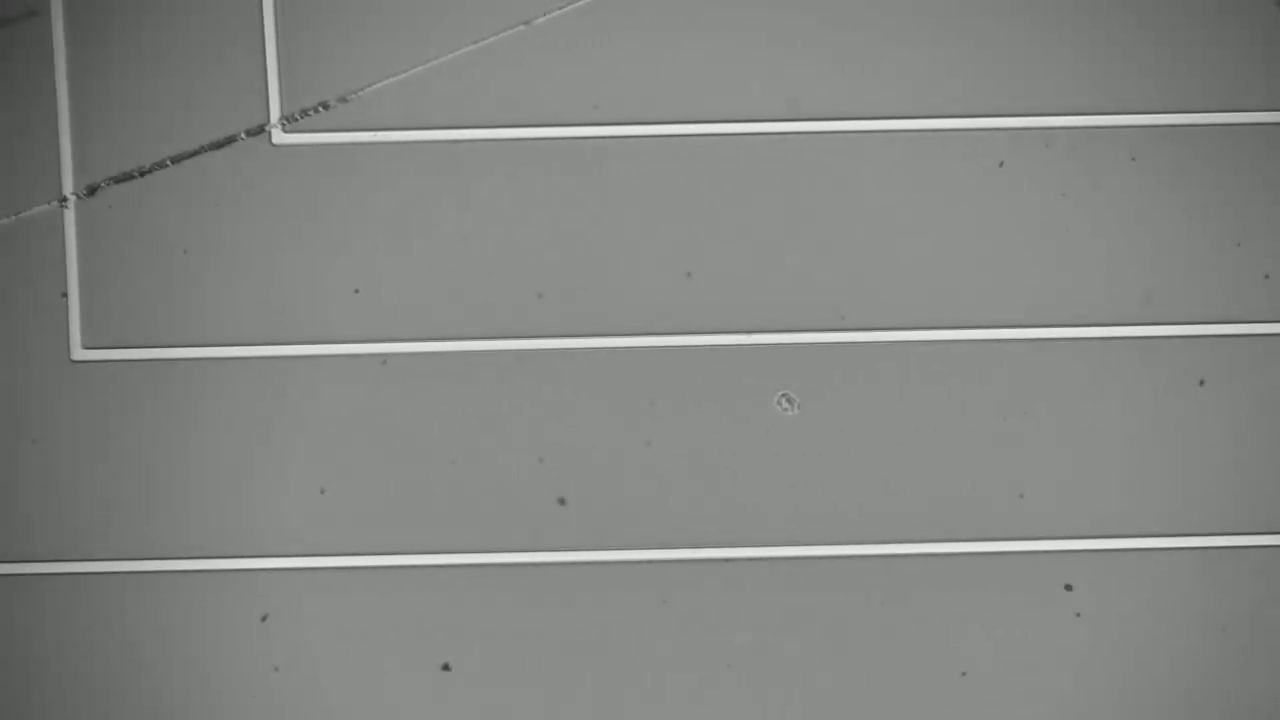scratch: (15, 1, 610, 238)
